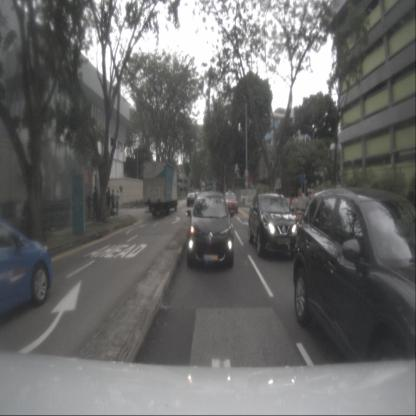human-pedestrian-adult: (92, 185, 99, 222), (106, 187, 111, 216), (87, 191, 91, 222), (111, 189, 115, 215), (116, 190, 119, 218)
movable_object-barrier: (298, 195, 310, 210), (246, 195, 255, 207), (291, 198, 297, 210), (284, 196, 290, 208), (288, 198, 295, 206)
vehicle-car: (293, 188, 416, 412), (0, 217, 52, 318), (186, 190, 235, 268), (248, 193, 299, 260), (223, 189, 238, 214), (186, 192, 198, 207)
vehicle-truck: (142, 160, 178, 216)
